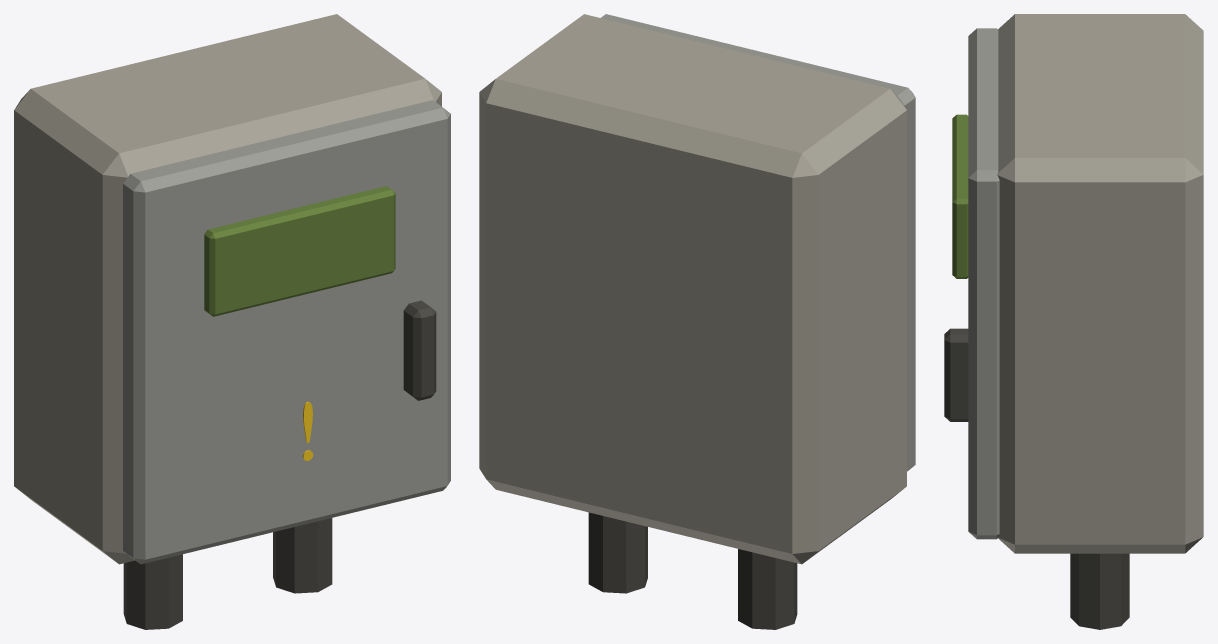
The model's file is Electrical_Control_Box.glb.
3 views of the same model, side by side, from view 1: azimuth 30°, elevation 25°; view 2: azimuth 150°, elevation 25°; view 3: azimuth 270°, elevation 25° (orthographic). The views are drawn at different scales.
Parts seen in each view (by area): view 1: Door.002, Weatherproof body.002, Readout, Conduit.004, Conduit.005, Door latch.002; view 2: Weatherproof body.002, Door.002, Conduit.005, Conduit.004; view 3: Weatherproof body.002, Door.002, Conduit.005, Readout, Door latch.002.
Boxes of the visible parts, x1=… form: Door.002: x1=123, y1=100, x2=450, y2=564; Weatherproof body.002: x1=14, y1=14, x2=441, y2=564; Readout: x1=204, y1=186, x2=395, y2=316; Conduit.004: x1=123, y1=554, x2=182, y2=629; Conduit.005: x1=273, y1=518, x2=332, y2=593; Door latch.002: x1=403, y1=300, x2=436, y2=400; Weatherproof body.002: x1=479, y1=14, x2=906, y2=564; Door.002: x1=601, y1=14, x2=915, y2=471; Conduit.005: x1=588, y1=512, x2=647, y2=593; Conduit.004: x1=738, y1=549, x2=797, y2=629; Weatherproof body.002: x1=997, y1=14, x2=1203, y2=553; Door.002: x1=968, y1=28, x2=999, y2=539; Conduit.005: x1=1070, y1=553, x2=1129, y2=629; Readout: x1=952, y1=114, x2=968, y2=278; Door latch.002: x1=944, y1=328, x2=968, y2=421.
Bounding box in the file's own units: 0.51 × 0.74 × 0.3505.
